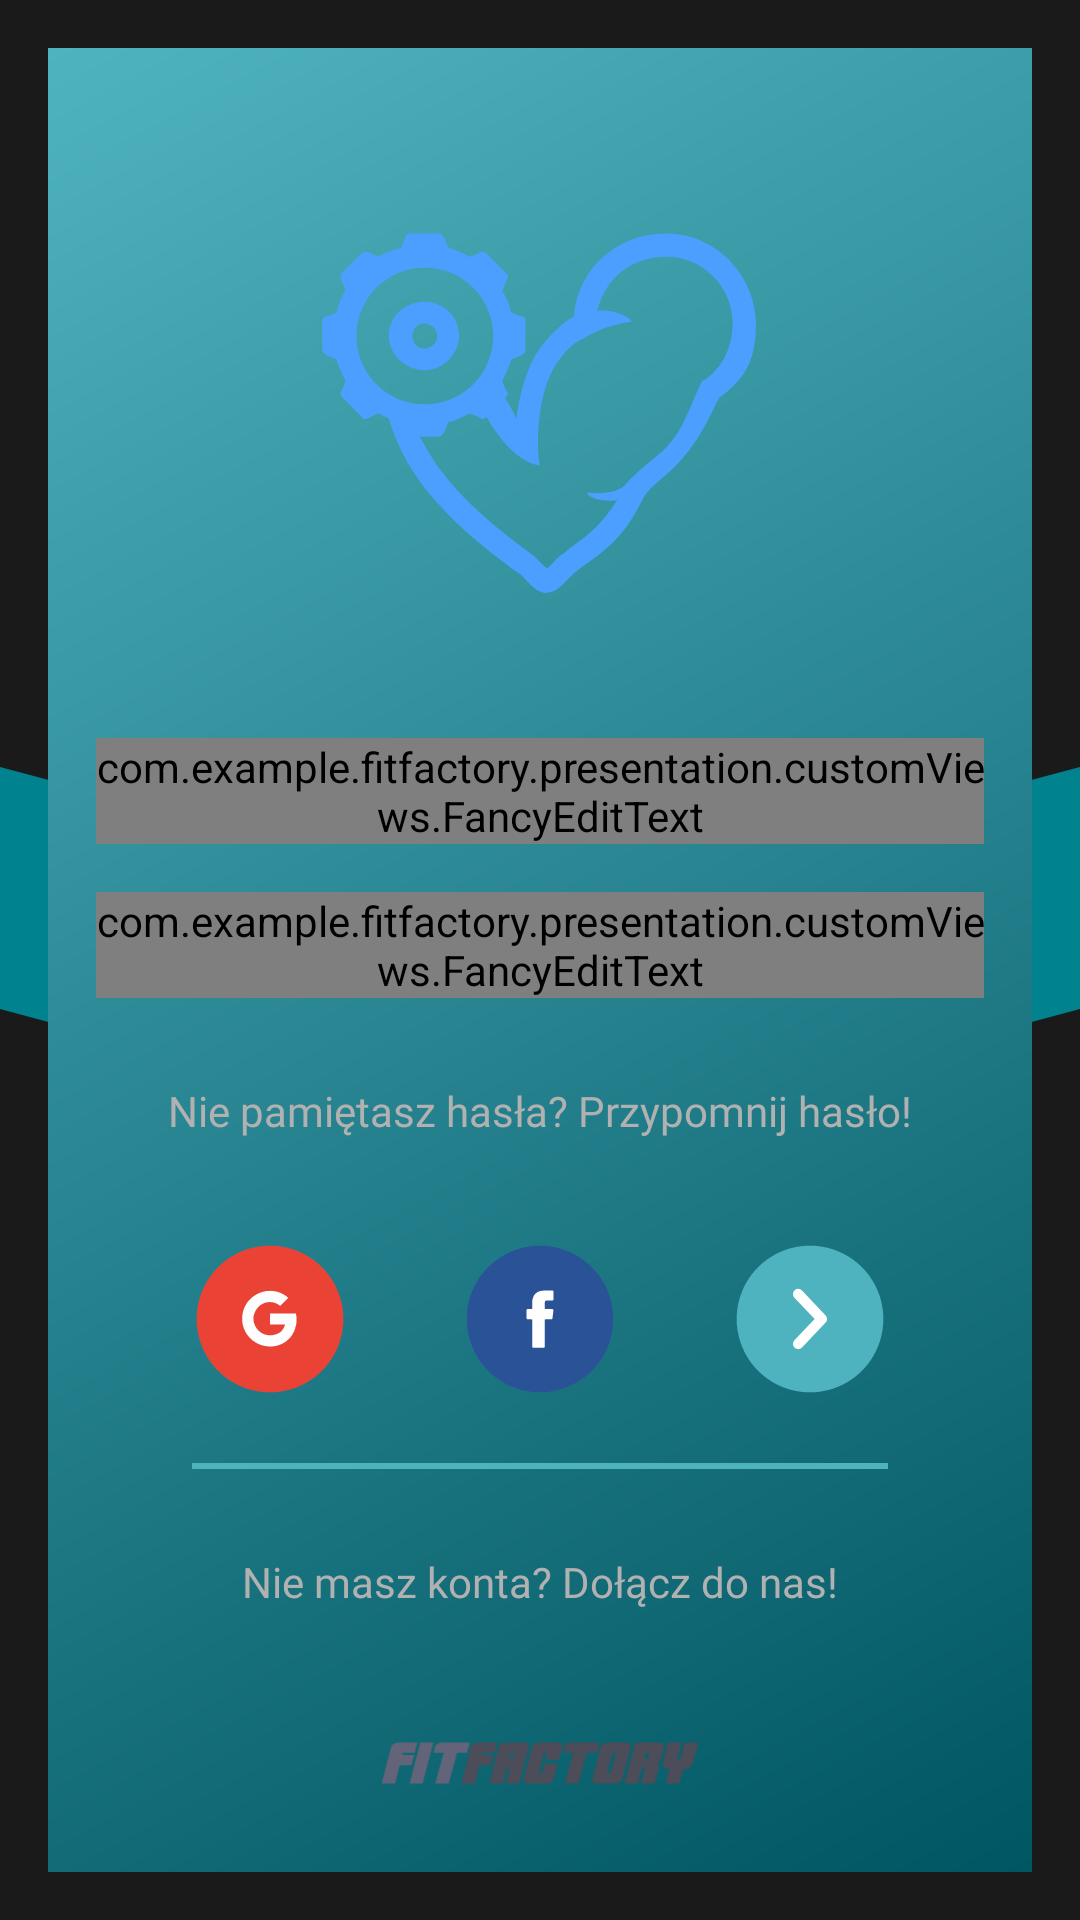

Icon bounding boxes for this 1080 x 1920 phone screenshot, format [x1,y1,x2,y2]:
arrowright: [737,1246,883,1392]
